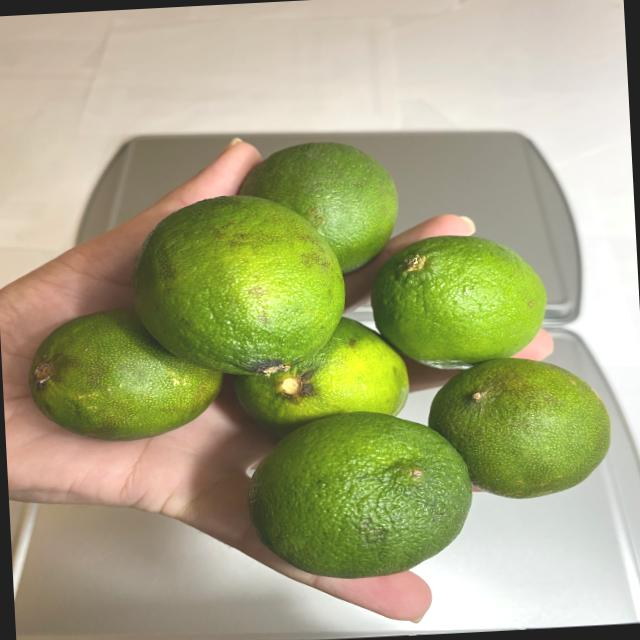lemon: (18, 130, 625, 598)
